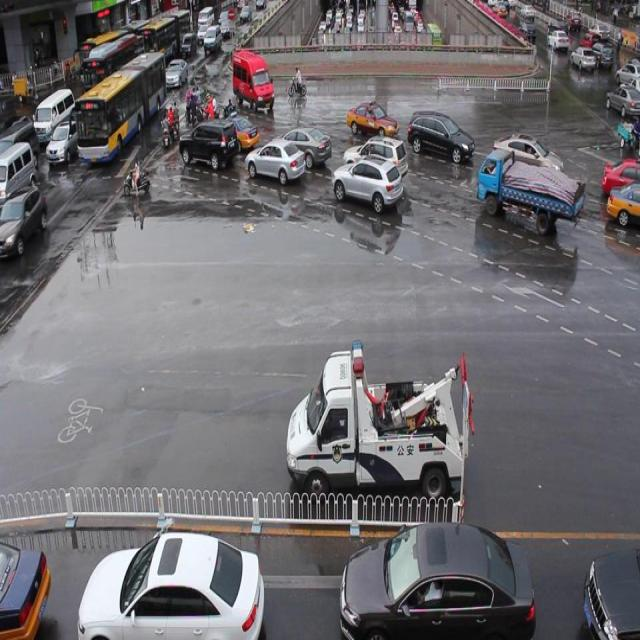bus: (285, 338, 464, 498), (476, 146, 581, 232)
car: (490, 129, 562, 186), (406, 107, 474, 164), (331, 158, 402, 212), (342, 132, 408, 184), (266, 123, 332, 169), (244, 137, 305, 183), (346, 99, 398, 140), (604, 179, 640, 230), (213, 114, 259, 152), (600, 157, 640, 199)
truck: (179, 118, 237, 168), (232, 50, 273, 110)
